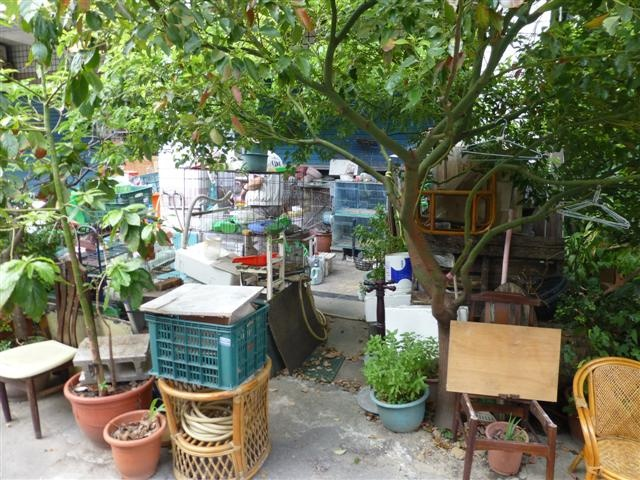bottle: (310, 263, 324, 286)
bucket: (384, 251, 414, 295)
styrofoam: (327, 158, 360, 178)
